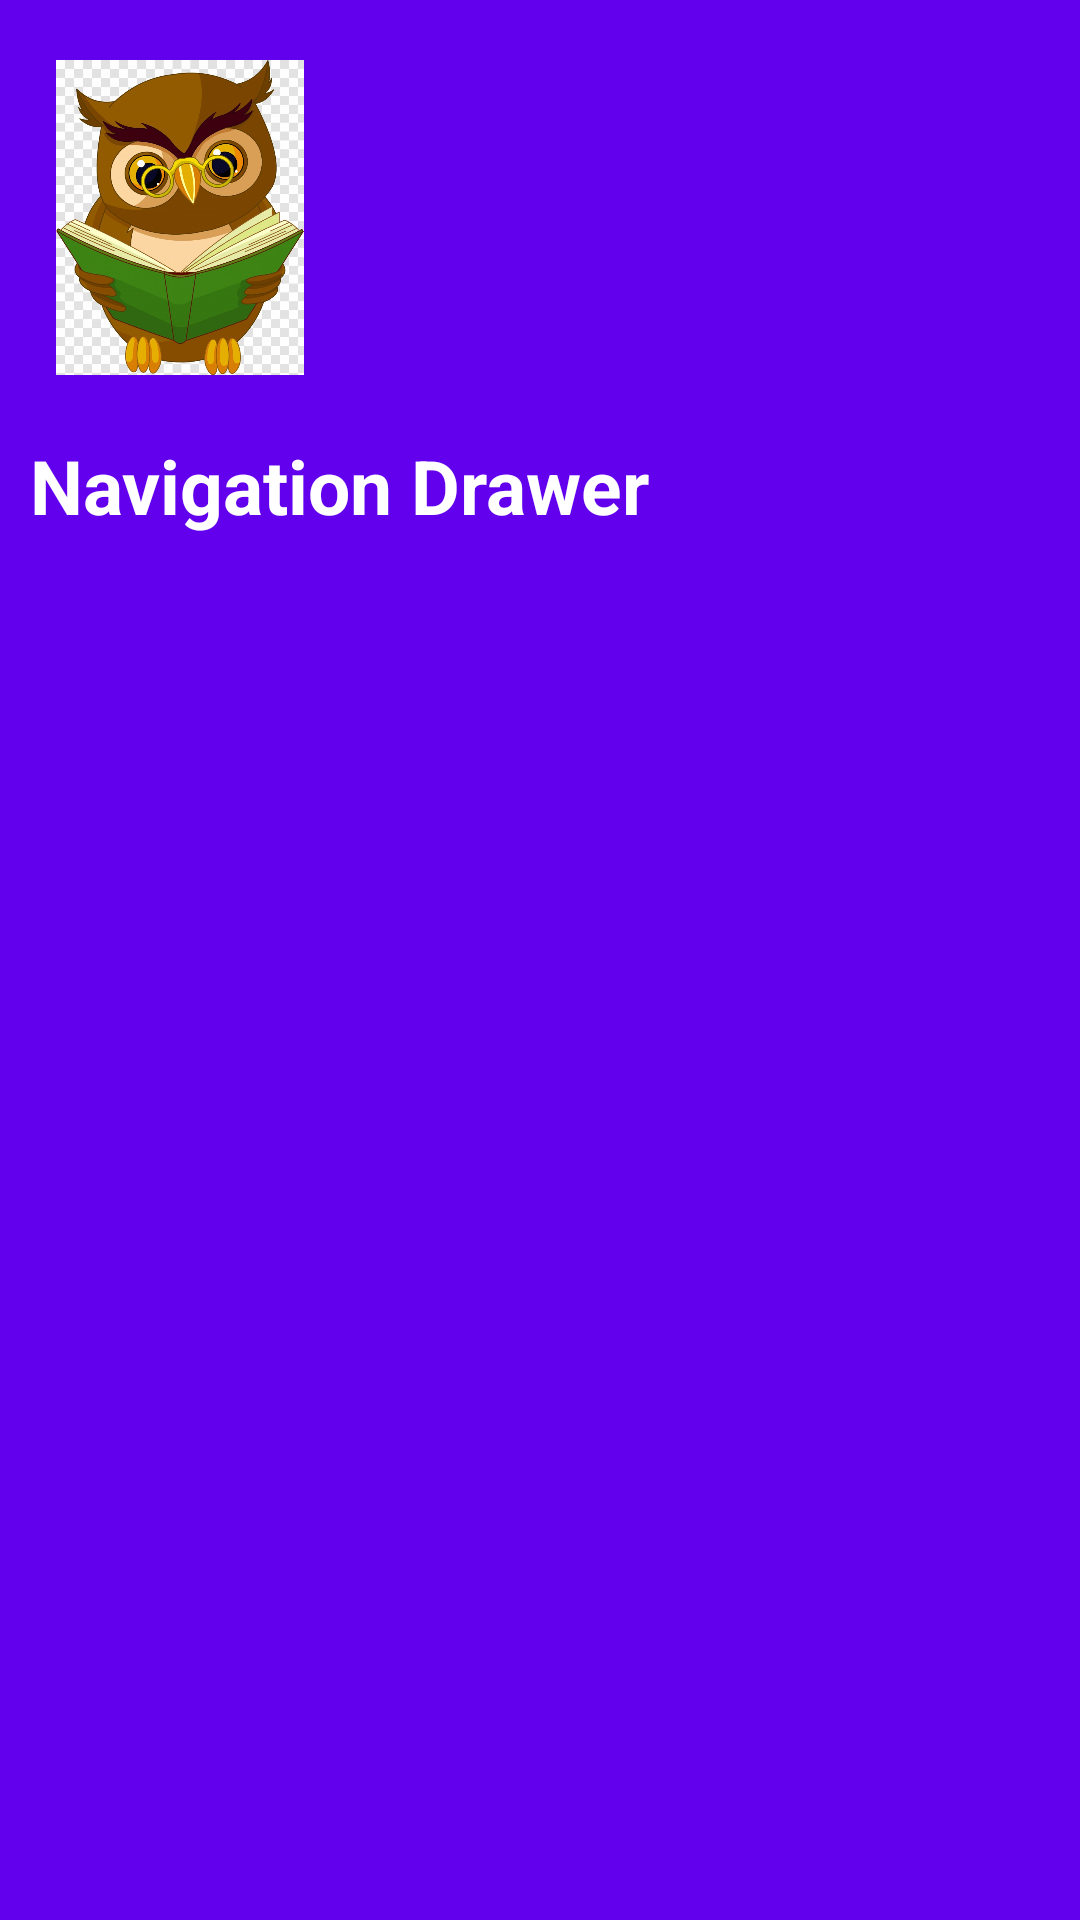

Screen size 1080x1920. Icon name, then its center in pixels as (x,y):
owl: (180,217)
